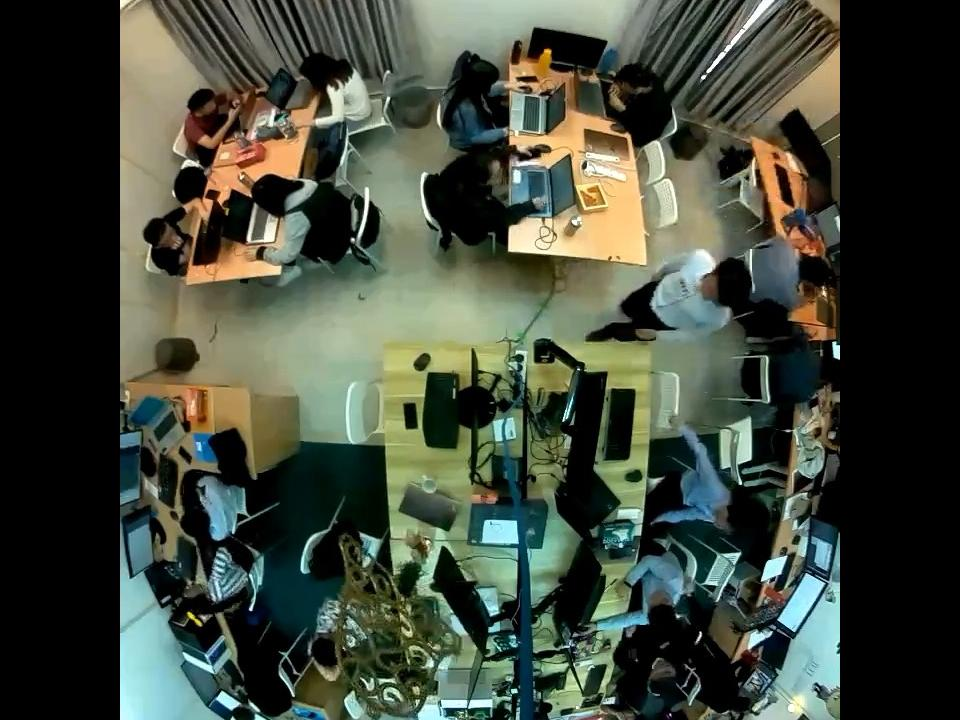name-tag: (678, 276, 690, 292)
